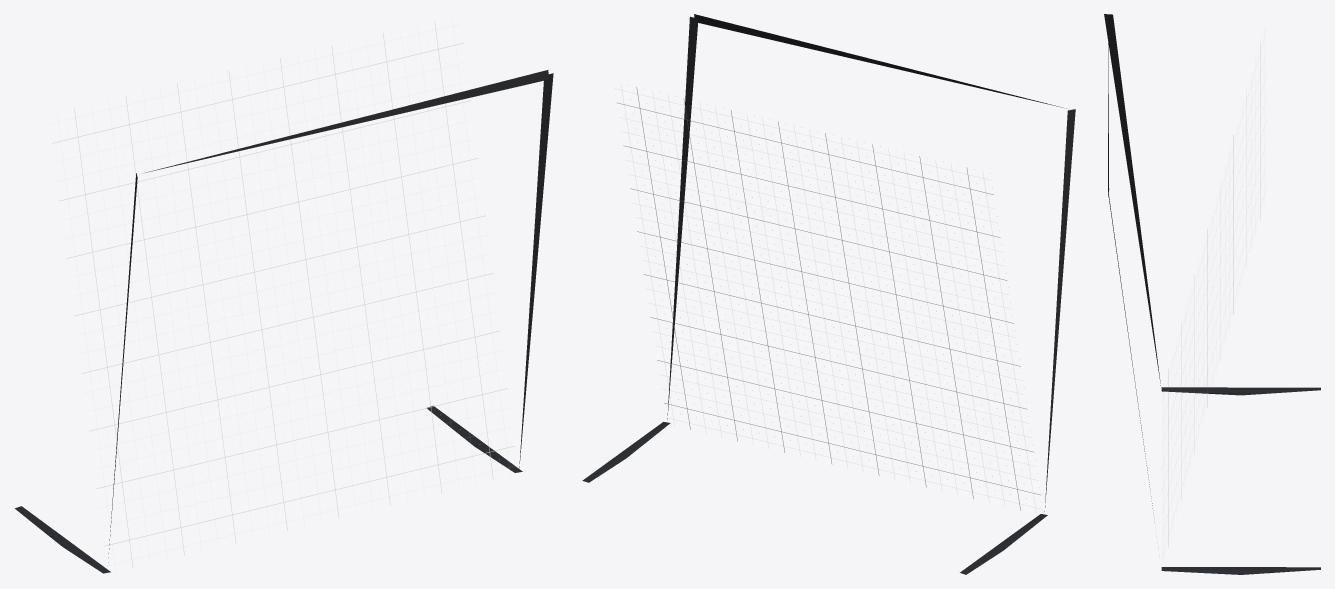
Rendered from kicking_net_lod2.glb.
The picture shows the model from 3 angles, left to right: view 1: azimuth 30°, elevation 25°; view 2: azimuth 150°, elevation 25°; view 3: azimuth 270°, elevation 25°; orthographic projection. The views are drawn at different scales.
Parts seen in each view (by area): view 1: kicking_net__prop_net, kicking_net__prop_dark; view 2: kicking_net__prop_dark, kicking_net__prop_net; view 3: kicking_net__prop_dark.
Part boxes in pixels (x1,y1,x2,y2): kicking_net__prop_net: (48, 18, 514, 568); kicking_net__prop_dark: (15, 70, 553, 573); kicking_net__prop_dark: (582, 14, 1075, 574); kicking_net__prop_net: (617, 87, 1040, 510); kicking_net__prop_dark: (1104, 14, 1320, 574).
Bounding box in the file's own units: 2.45 × 2.4 × 1.23.
2 materials, 1 textured.
